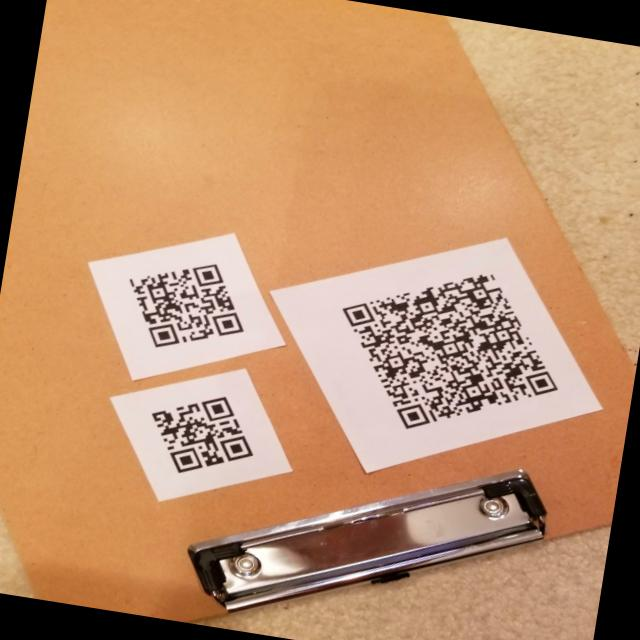QR_CODE: (322, 236, 586, 457), (97, 235, 262, 370), (126, 371, 278, 496)
